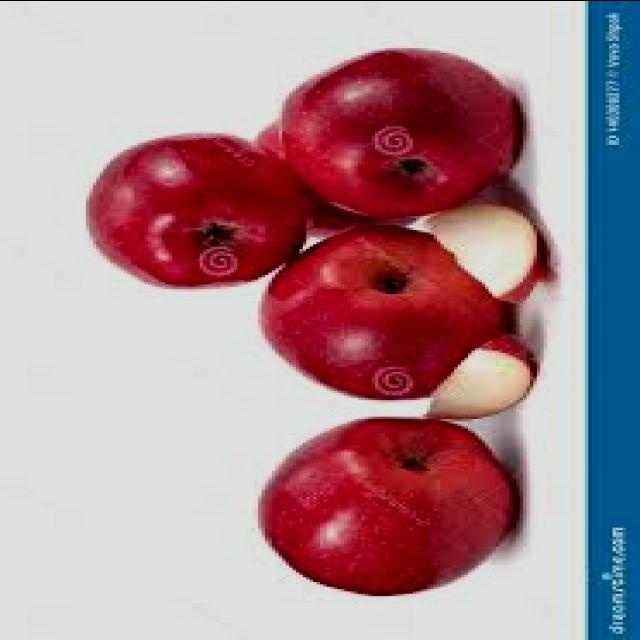agrume: (241, 408, 539, 612), (251, 224, 540, 403), (252, 42, 531, 222), (55, 128, 309, 308)
